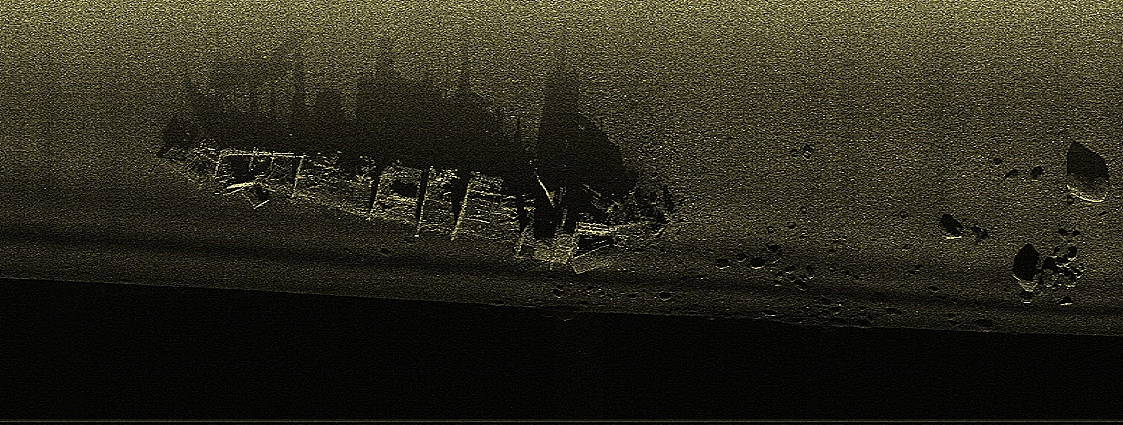ship: (144, 138, 677, 277)
